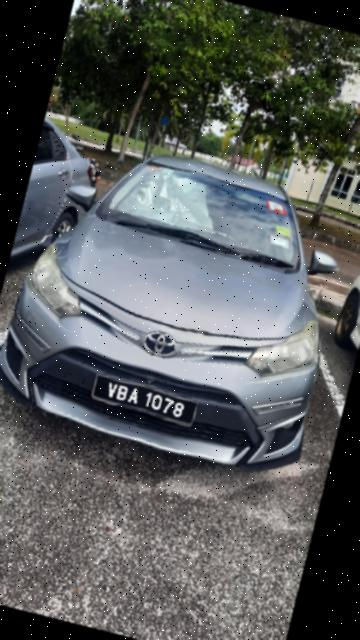License_Plate: (85, 364, 211, 437)
car: (1, 122, 360, 487)
